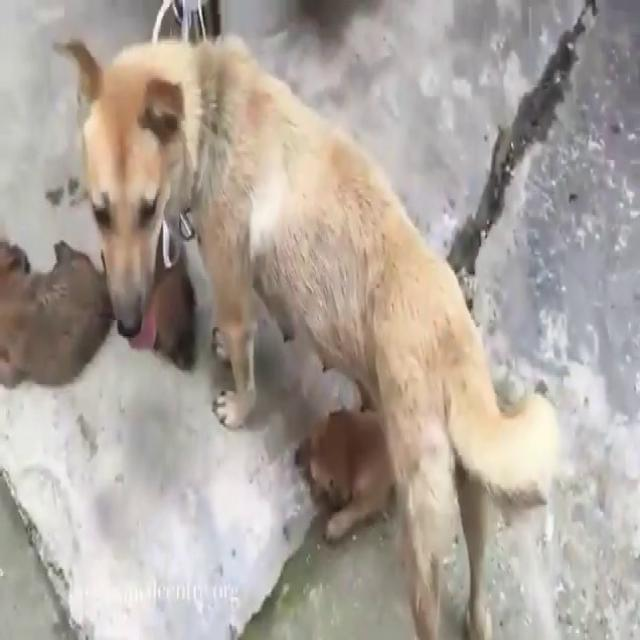normal_animals: (52, 25, 564, 631)
